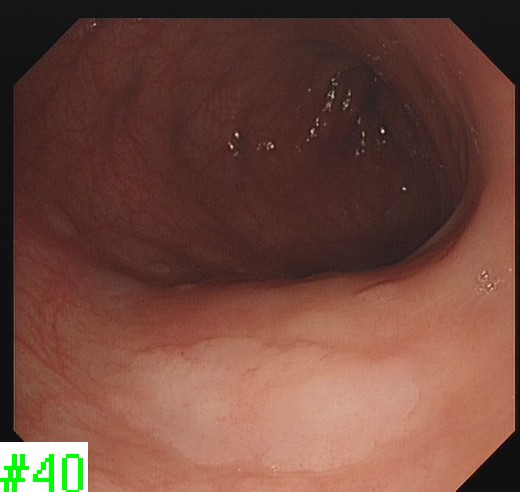others: (109, 333, 427, 473)
